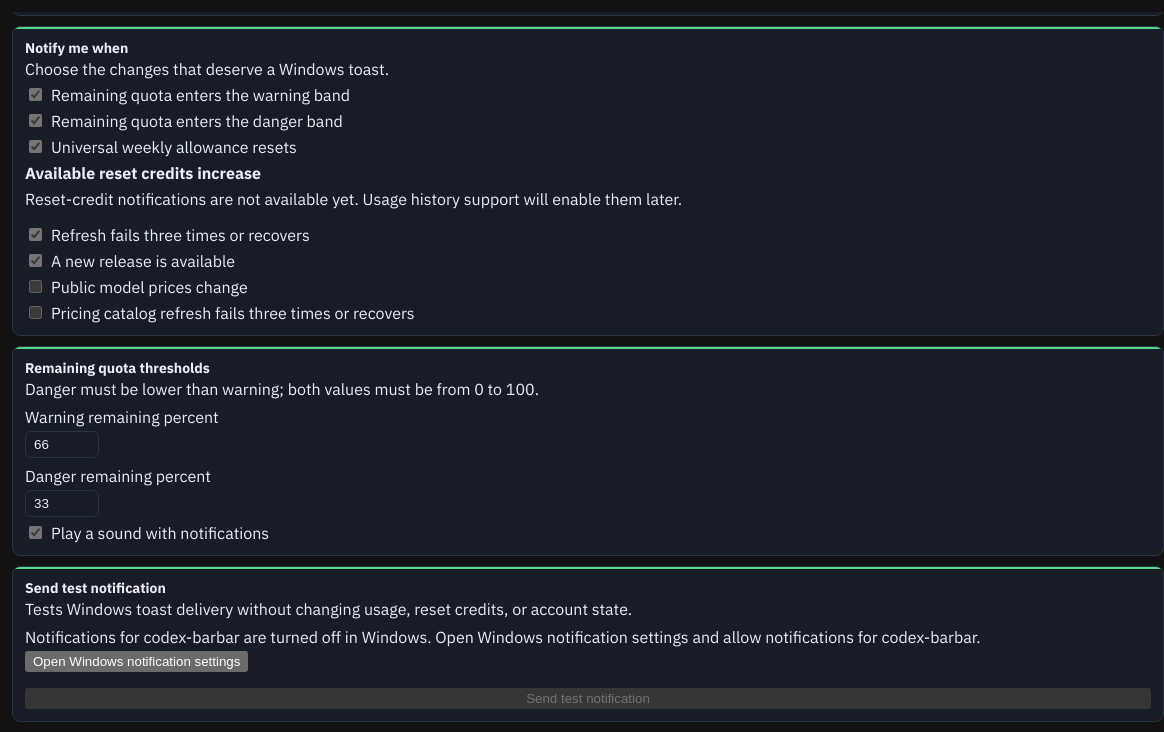
Test: NotificationsTab › shows a localized error when Windows notification settings cannot open
The width and height of the screenshot is (1164, 732).
(page scrolled)
Click the button "Open Windows notification settings": (137, 661) [25,651,248,672]
(page scrolled)
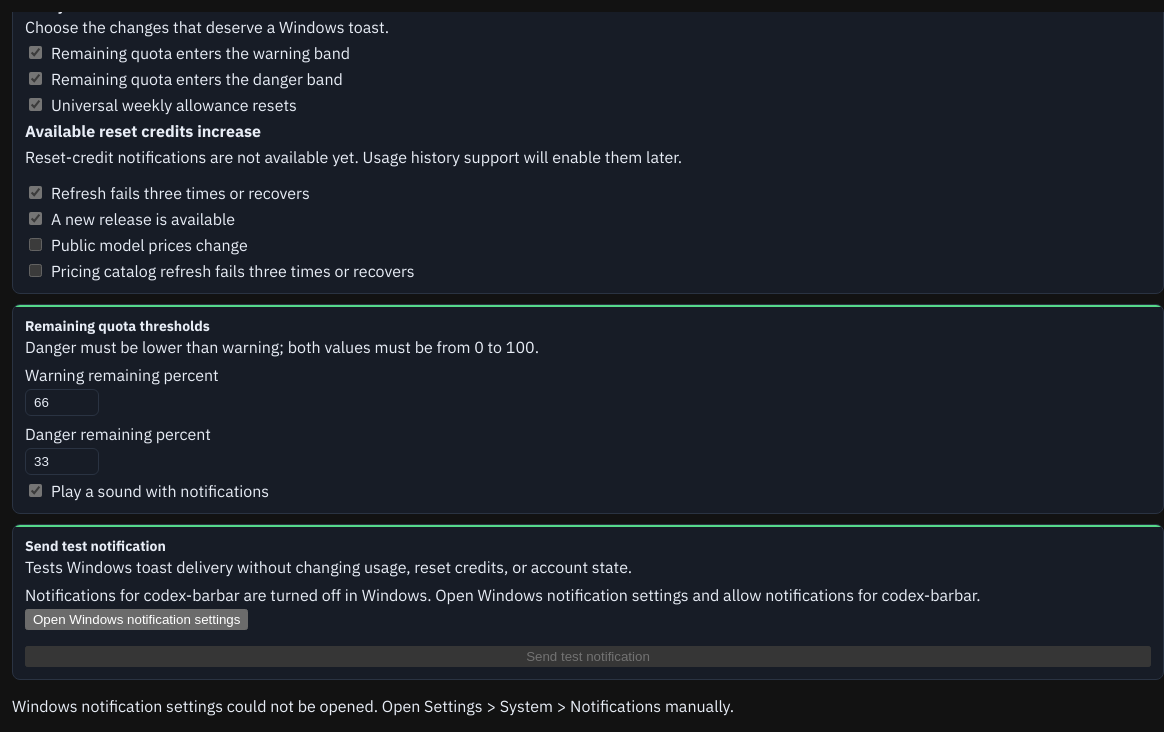
Result: the 2nd message shows "Windows notification settings could not be opened." at [12,696,734,716]
